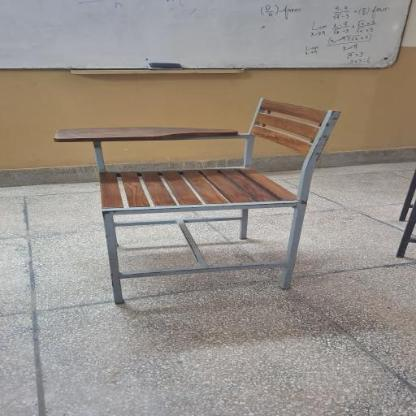chair: (45, 83, 347, 308)
